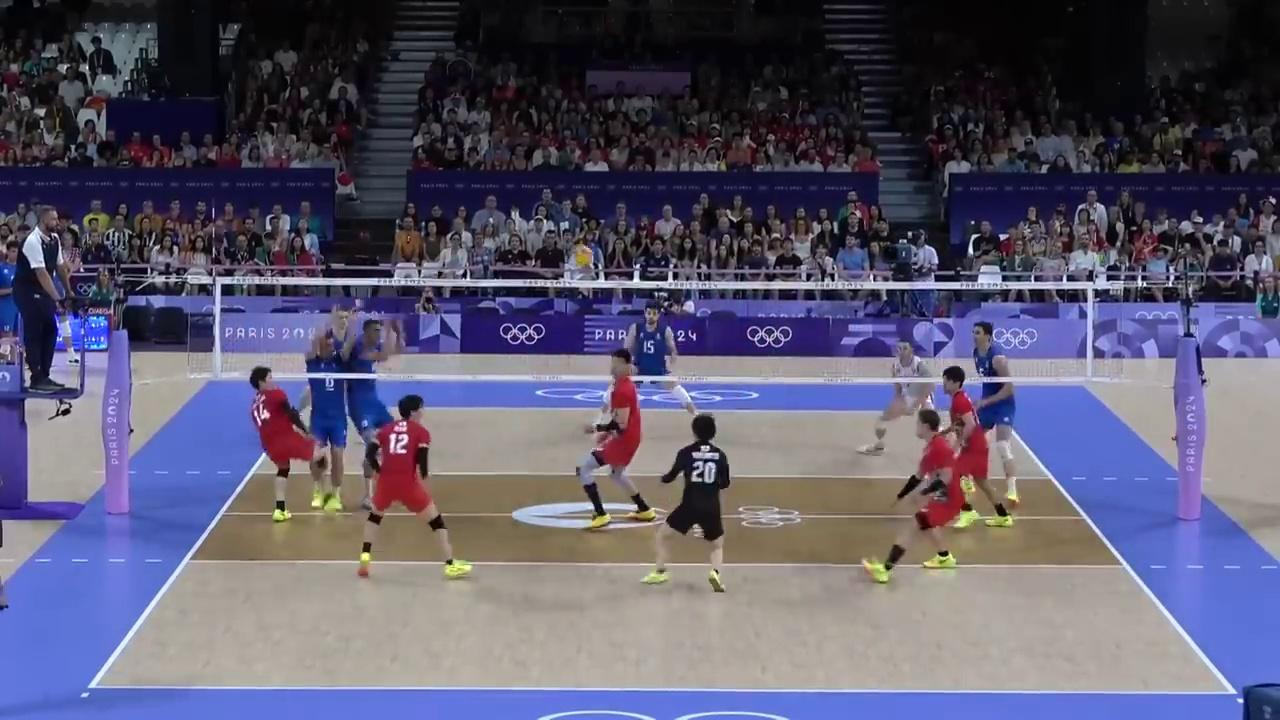ball: (572, 240, 592, 268)
